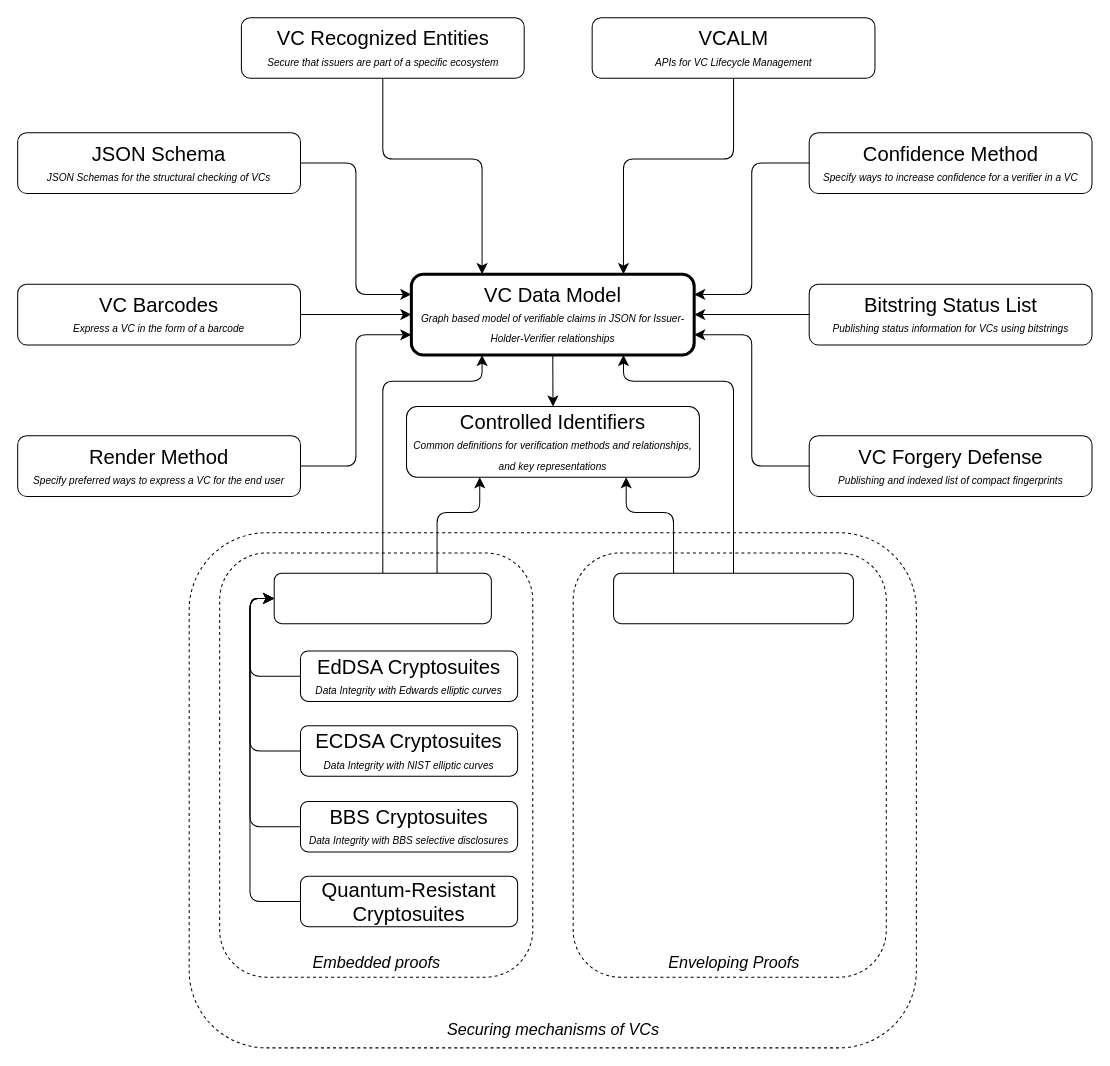
Some shapes in this 1110 by 1066 pixel diagram are drawn without their labels. The shapes that lost their labels are listed below. From the top down, each one's box as (x1, y1, x2, y2) in pixels, then its label:
(273, 572, 491, 624): Data Integrity General structure of embedded proofs
(613, 572, 853, 624): JOSE and COSE Enveloping proofs using JWS, SD-JWT, or CBOR
